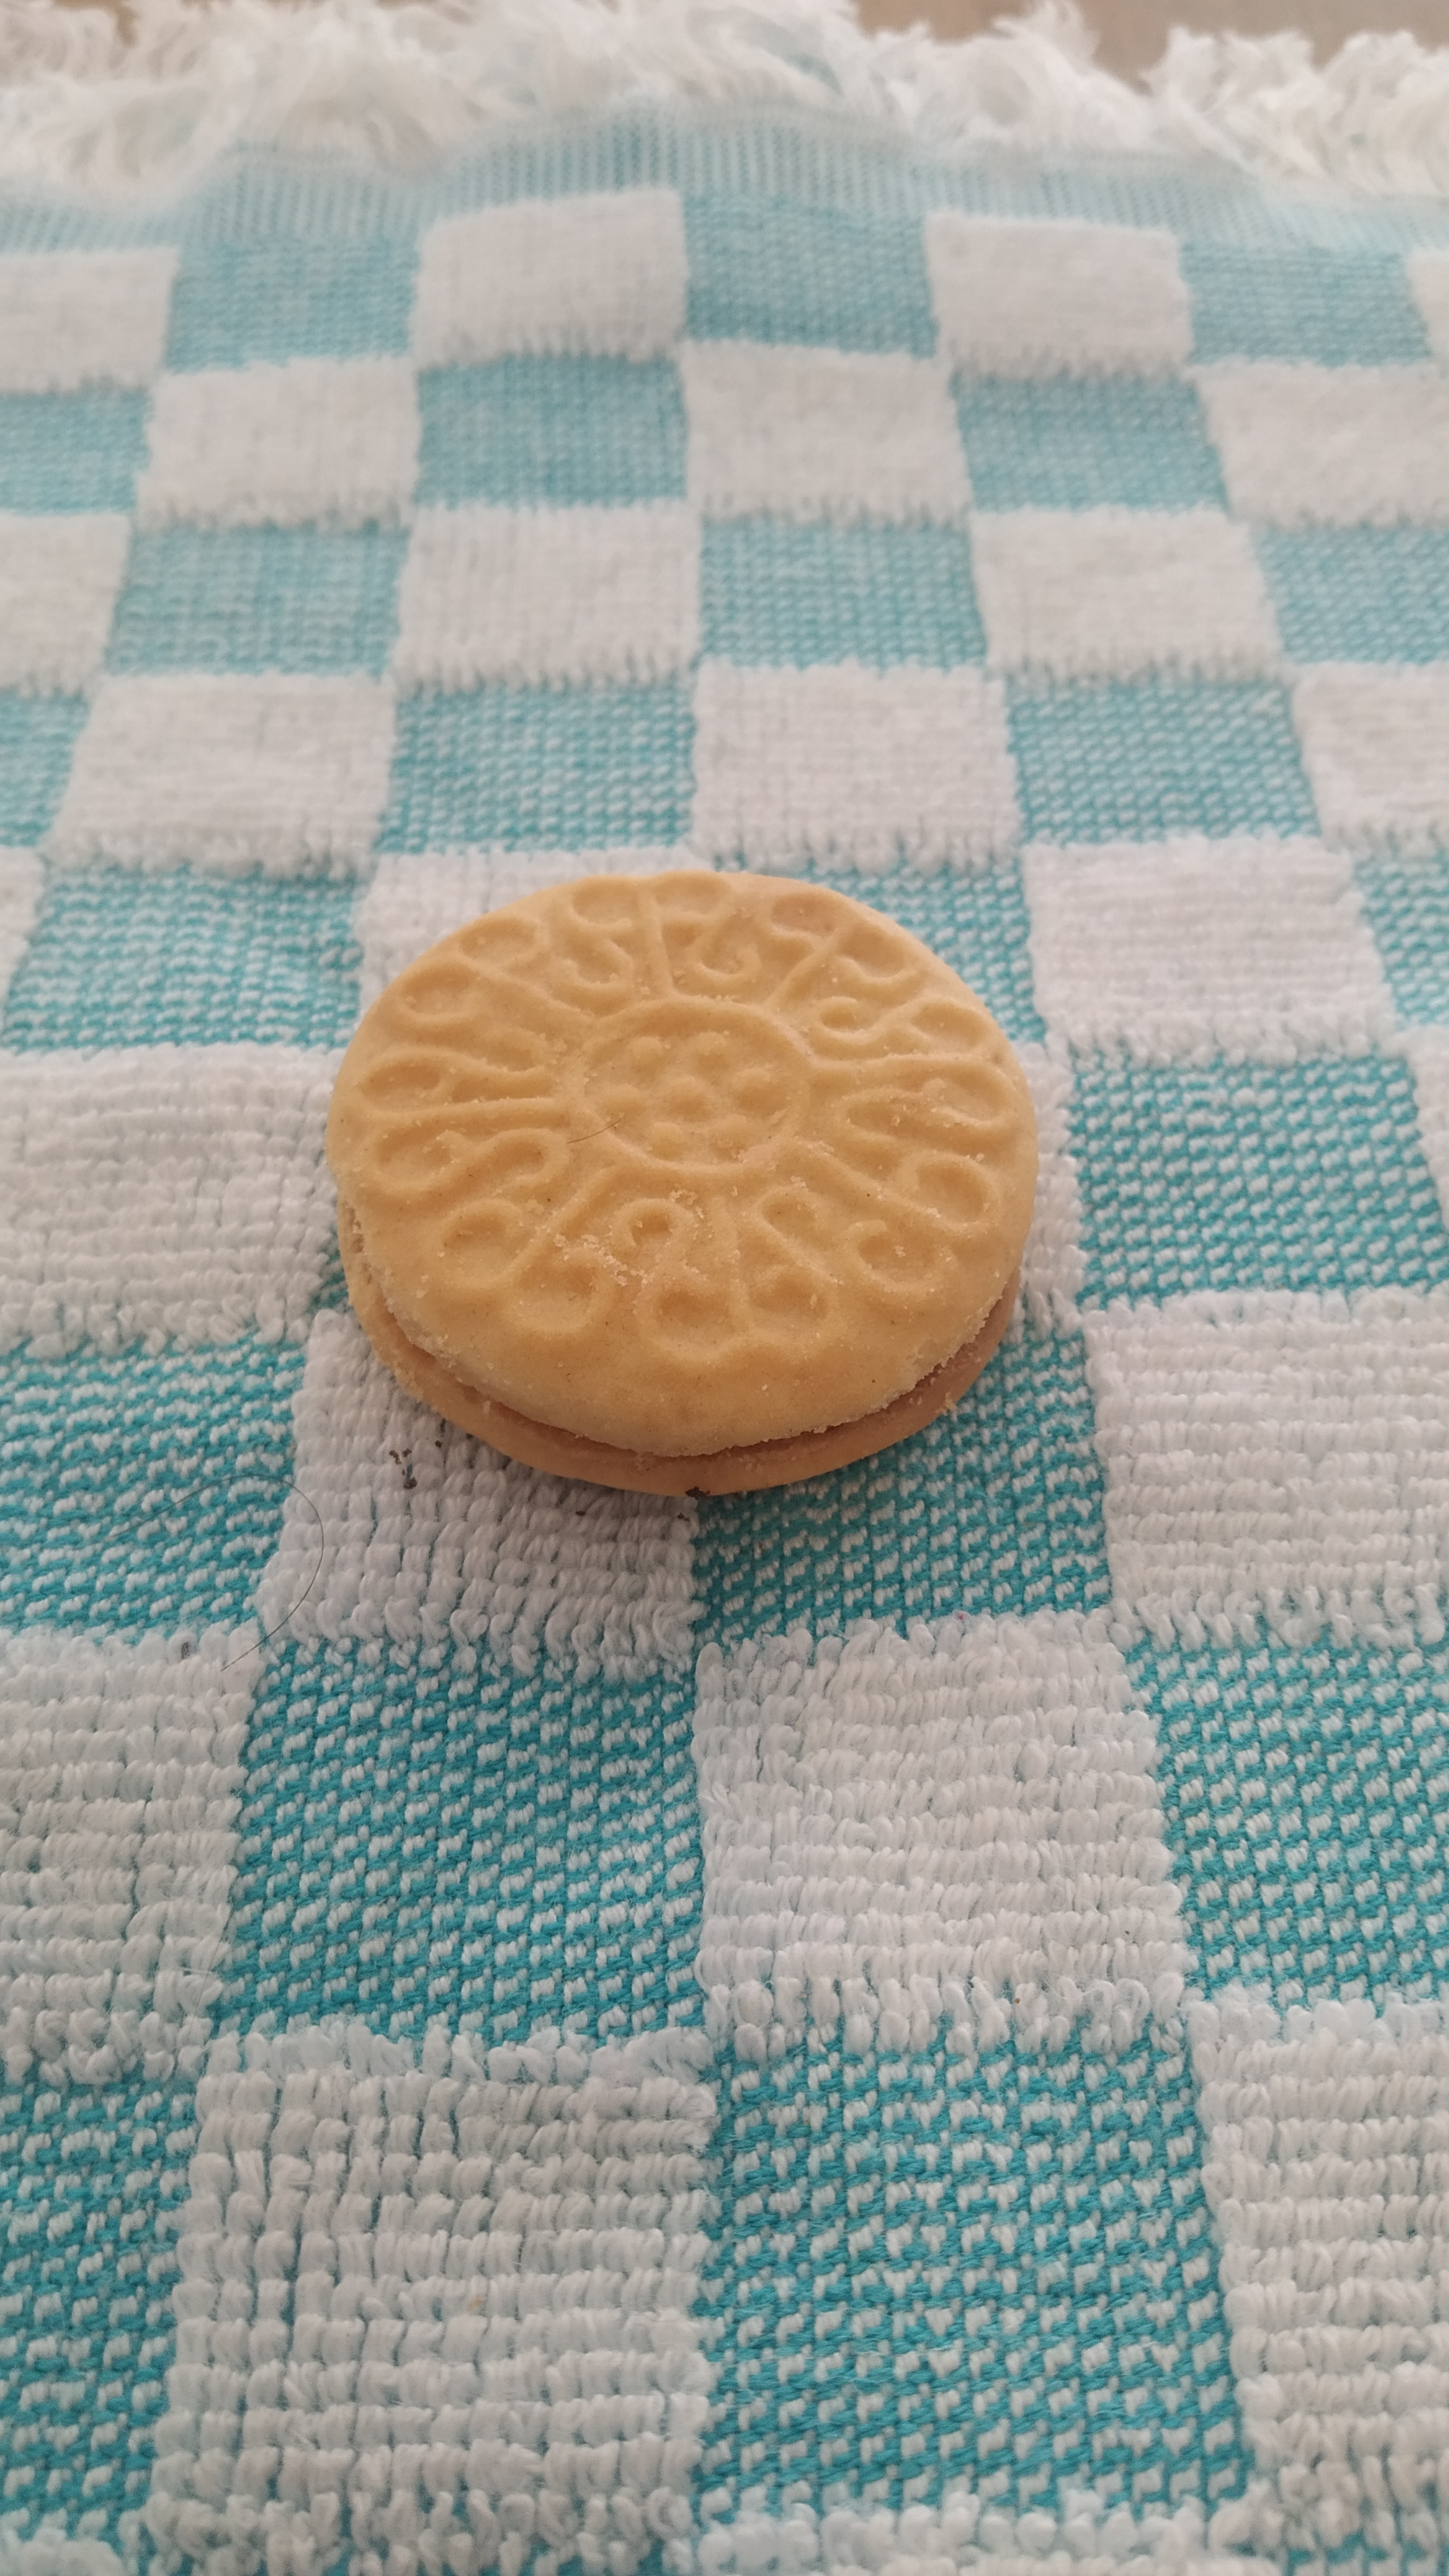lulu: (327, 869, 1039, 1495)
